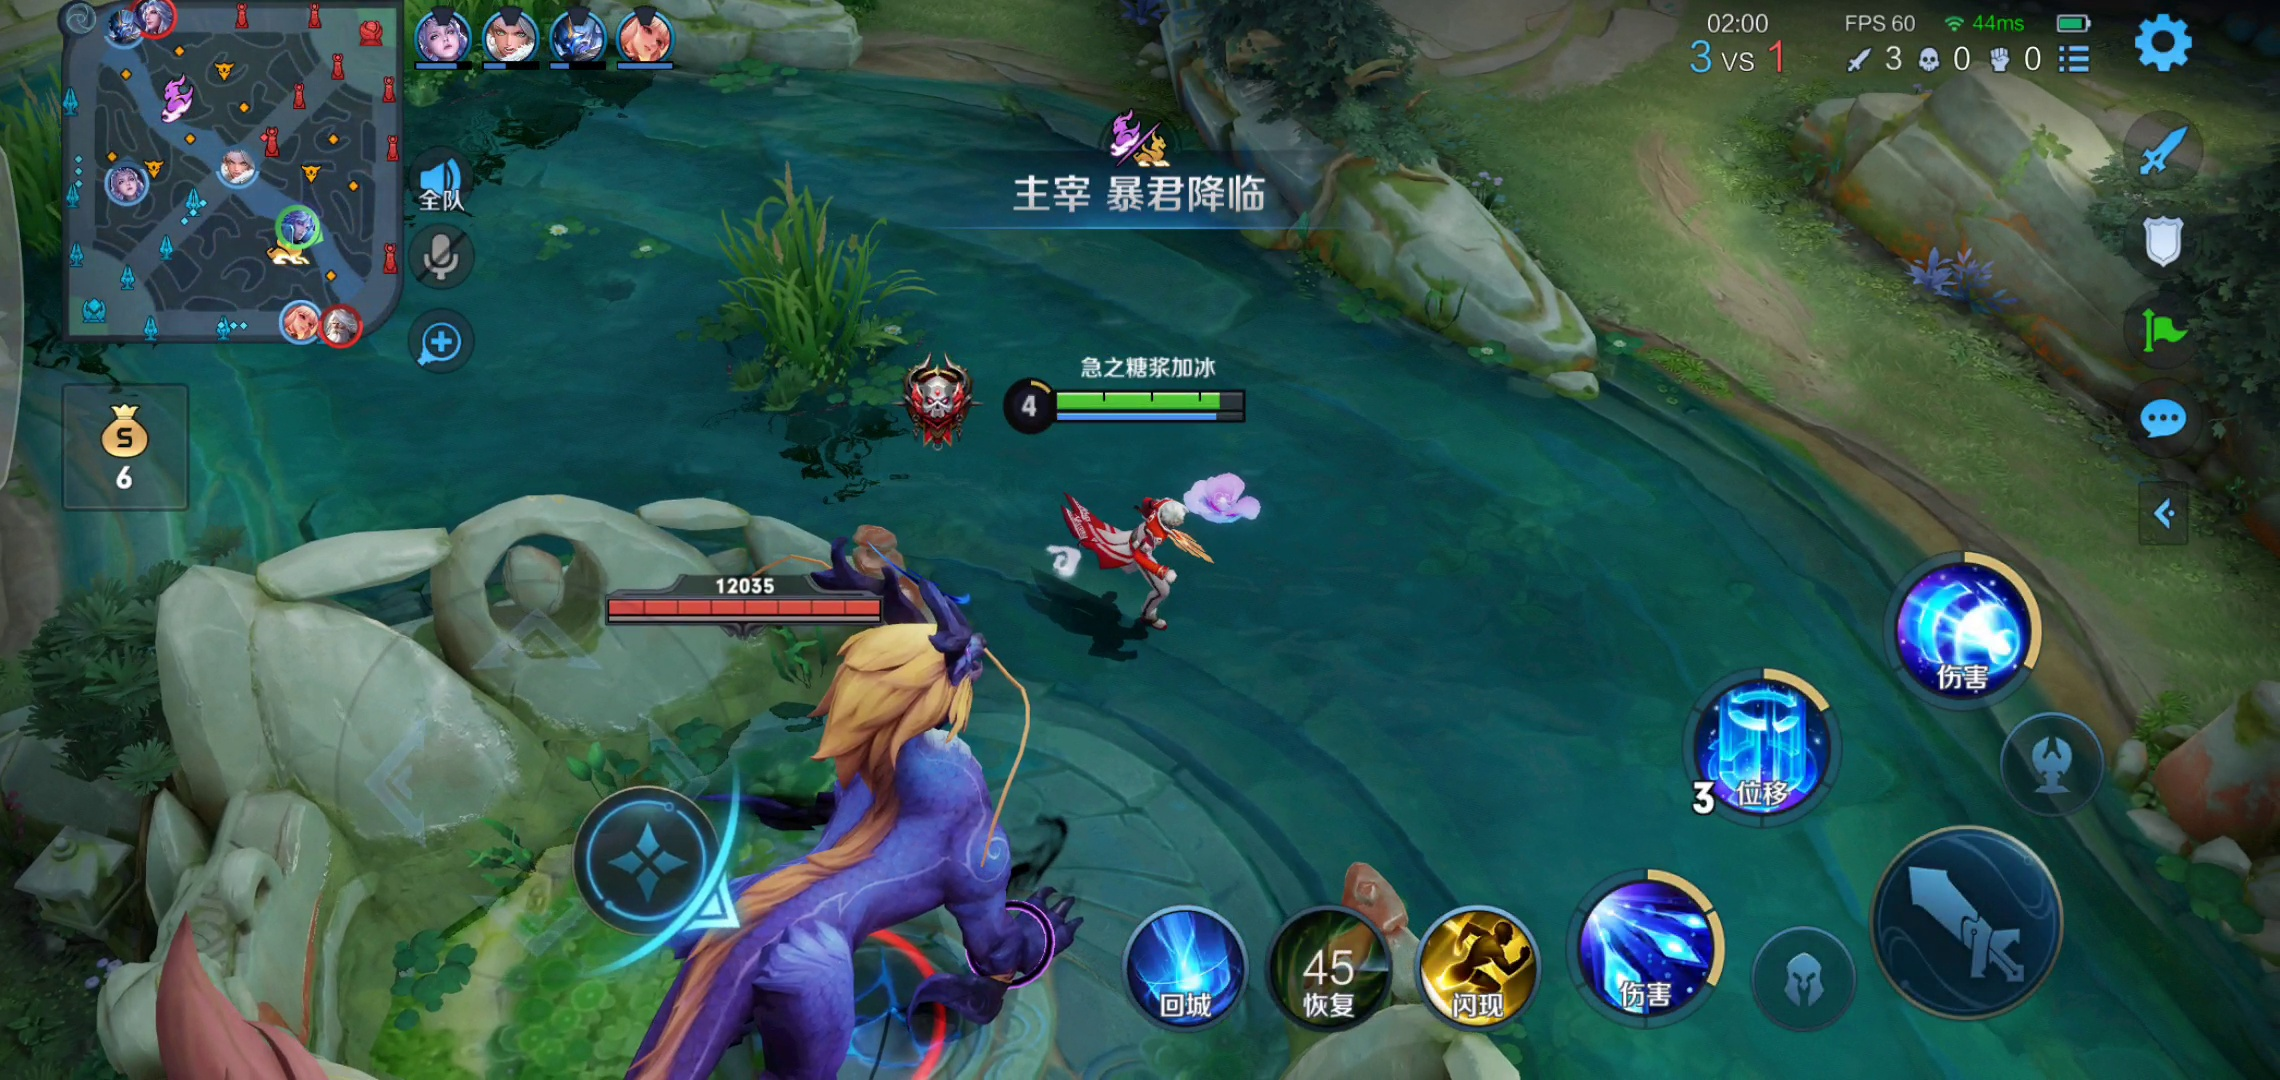dragon: (569, 574, 1091, 1065)
grass: (702, 185, 906, 411)
hero: (1050, 480, 1236, 629)
